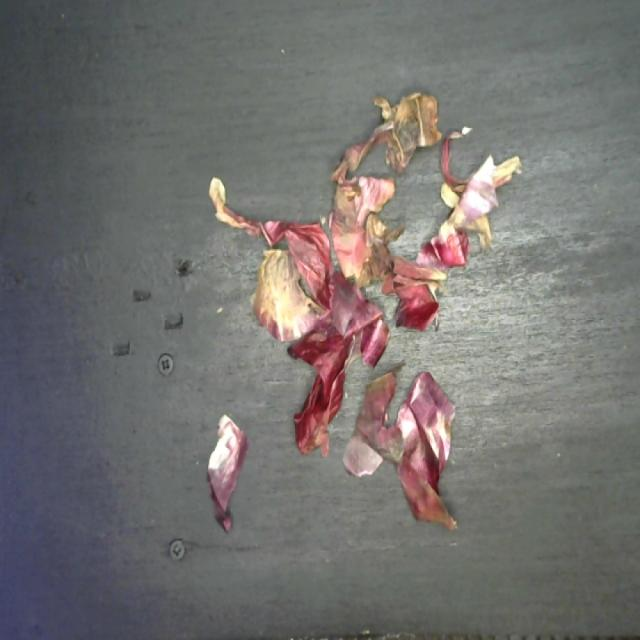biodegradable: (200, 84, 527, 543)
